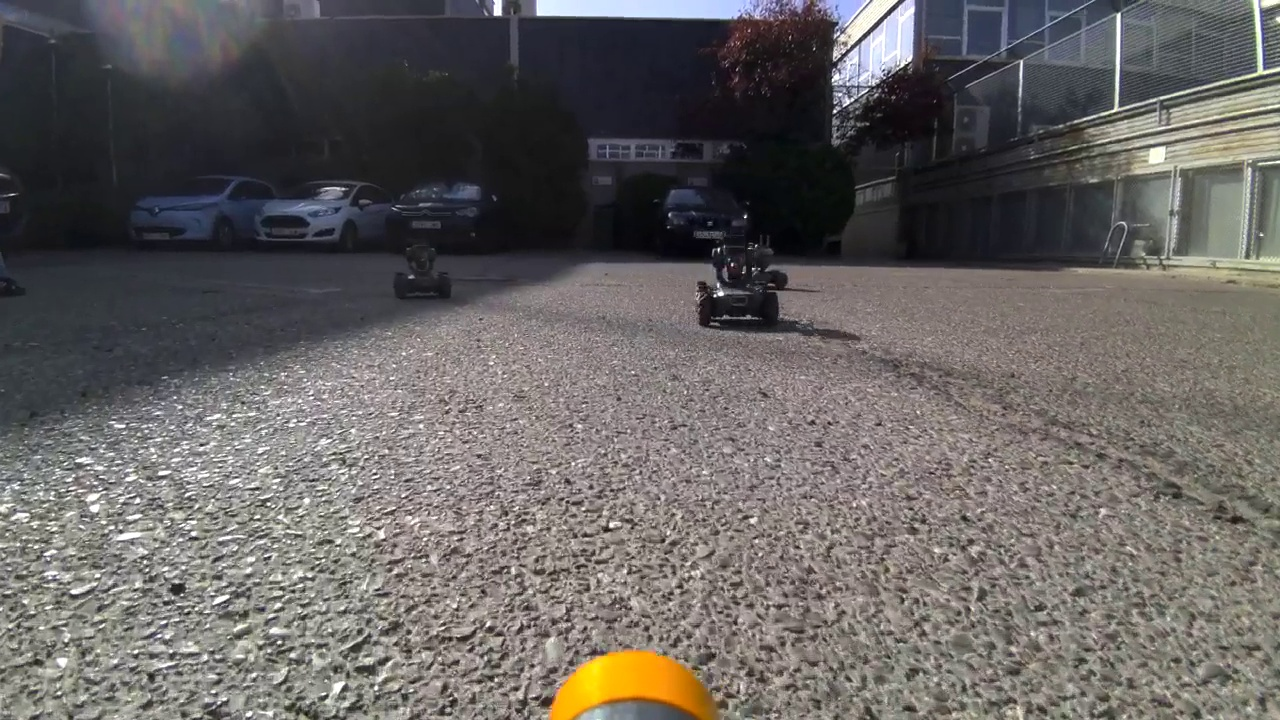robot: (691, 224, 784, 334), (390, 232, 453, 301), (749, 231, 794, 293)
